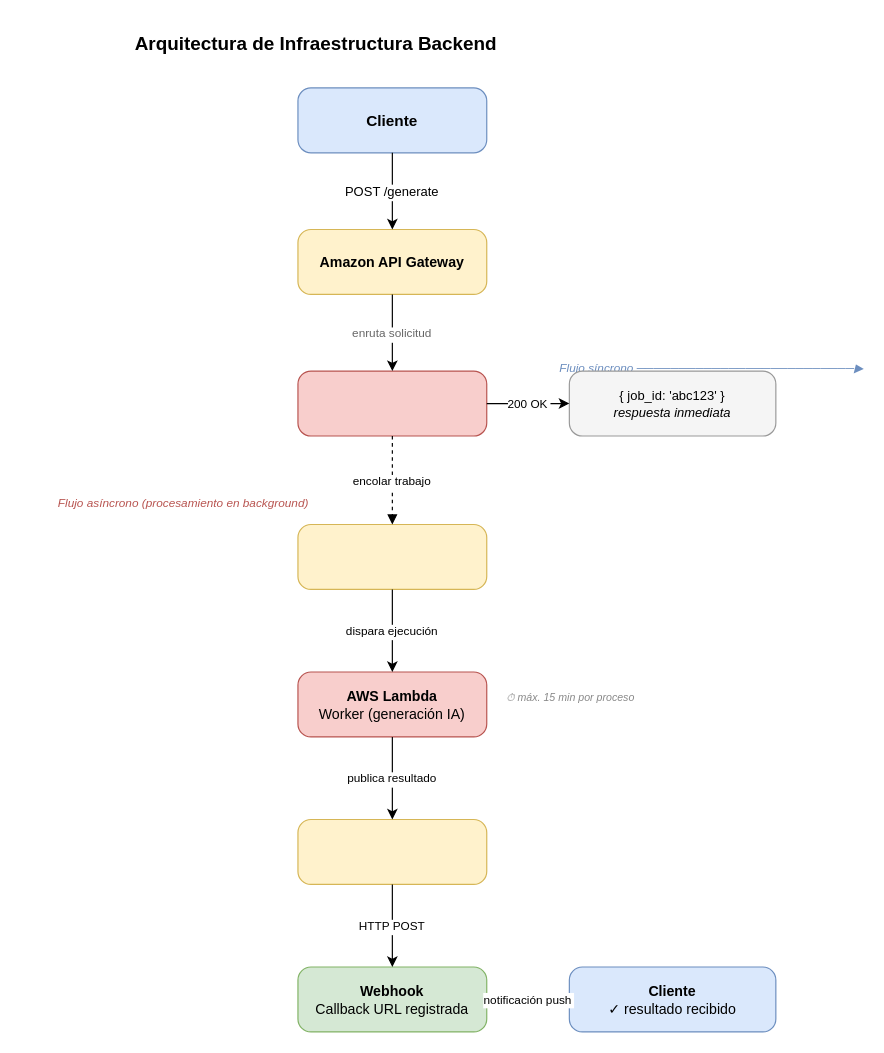
This 884x1053 diagram has some shape labels left out. The box of each missing label's shape, as (x1, y1, x2, y2) in pixels:
Amazon SNS Notificaciones: (297, 818, 487, 884)
Amazon SQS Cola de mensajes: (297, 523, 487, 589)
AWS Lambda Handler: (297, 370, 487, 436)
